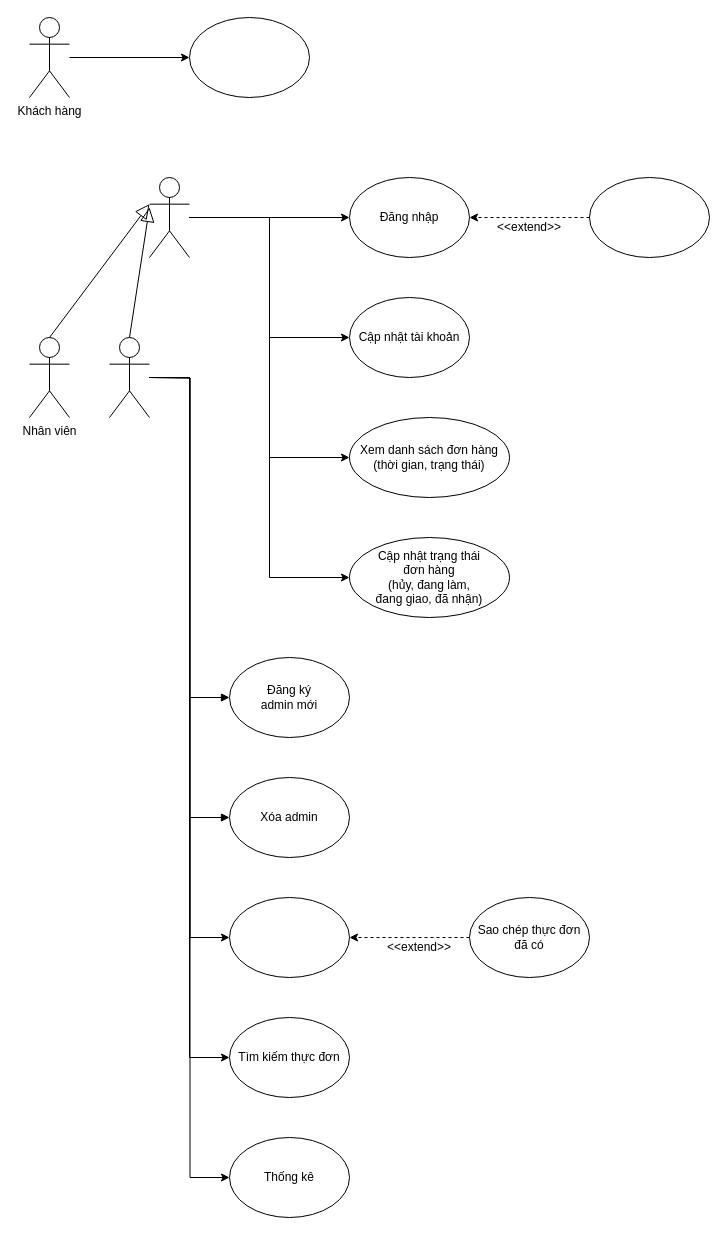
This 727x1235 diagram has some shape labels left out. Here are the shapes that lost their labels. From the top down, the box of each, then its label:
(188, 16, 310, 98): Đặt hàng
(148, 176, 190, 258): Admin
(588, 176, 710, 258): Lấy lại mật khẩu
(108, 336, 150, 418): Quản lý
(228, 896, 350, 978): Tạo thực đơn mới
